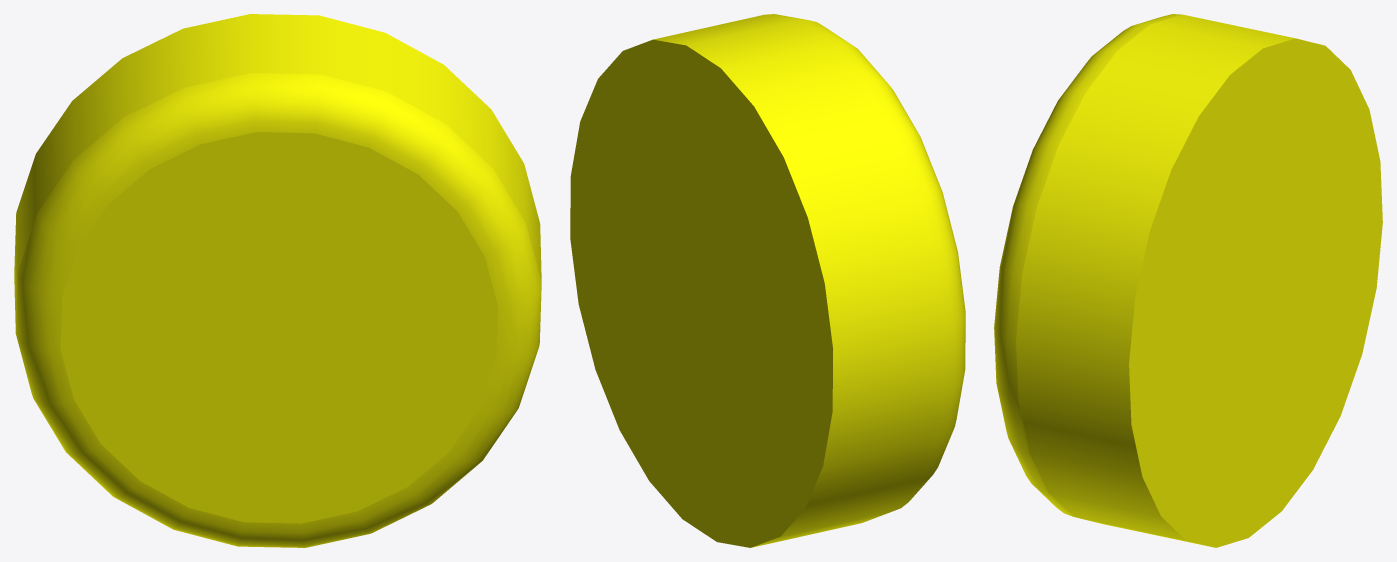
File: original-8.obj
The picture shows the model from 3 angles, left to right: view 1: azimuth 30°, elevation 25°; view 2: azimuth 150°, elevation 25°; view 3: azimuth 270°, elevation 25°; orthographic projection.
Visible parts, largest first — view 1: Component_5_3/Component_5/mesh11/mesh11-geometry#mesh11-geometry; view 2: Component_5_3/Component_5/mesh11/mesh11-geometry#mesh11-geometry; view 3: Component_5_3/Component_5/mesh11/mesh11-geometry#mesh11-geometry.
Part boxes in pixels (x1,y1,x2,y2): Component_5_3/Component_5/mesh11/mesh11-geometry#mesh11-geometry: (14, 14, 541, 547); Component_5_3/Component_5/mesh11/mesh11-geometry#mesh11-geometry: (570, 14, 965, 547); Component_5_3/Component_5/mesh11/mesh11-geometry#mesh11-geometry: (994, 14, 1382, 547).
Size of the model in its own units: 0.0567 by 0.0568 by 0.0426.
